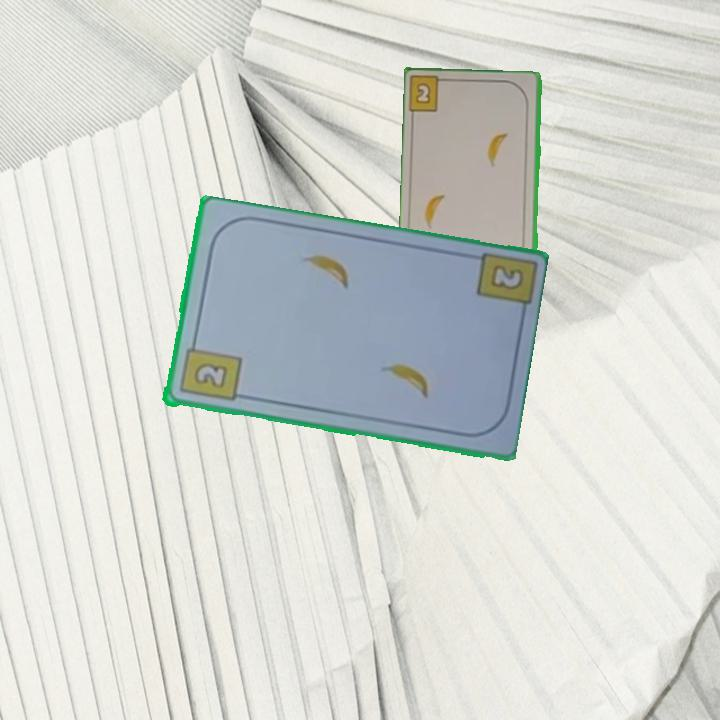2b: (175, 336, 243, 405), (407, 75, 453, 116), (490, 264, 523, 291)
